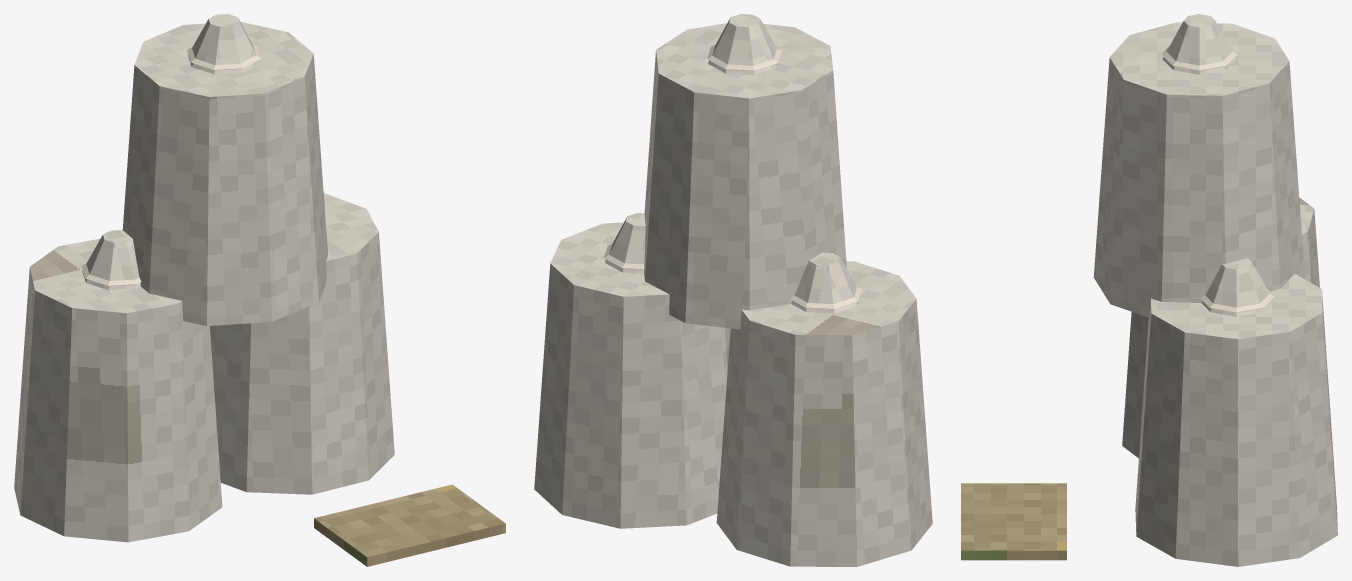
File: sacks.glb
3 renders of one model, left to right at view 1: azimuth 30°, elevation 25°; view 2: azimuth 150°, elevation 25°; view 3: azimuth 270°, elevation 25°, orthographic.
Visible parts, largest first — view 1: body; view 2: body; view 3: body.
Boxes of the visible parts, bbox=[...] form: body: bbox=[14, 14, 505, 566]; body: bbox=[534, 14, 932, 566]; body: bbox=[961, 14, 1337, 566].
Size of the model in its own units: 0.7787 by 0.96 by 0.7111.
Materials: 3 (2 with a texture image).
